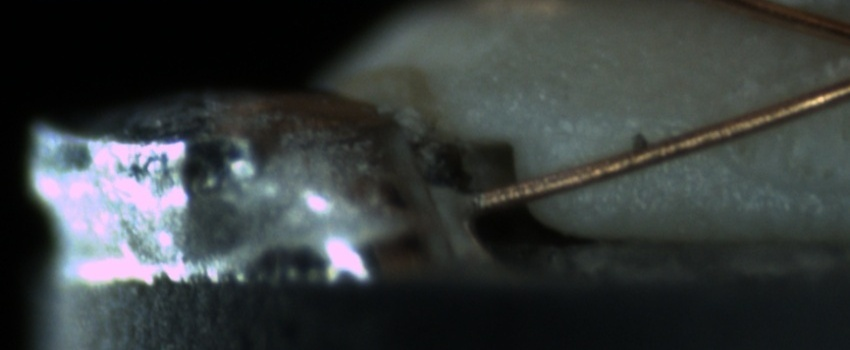DL: (554, 98, 705, 156)
